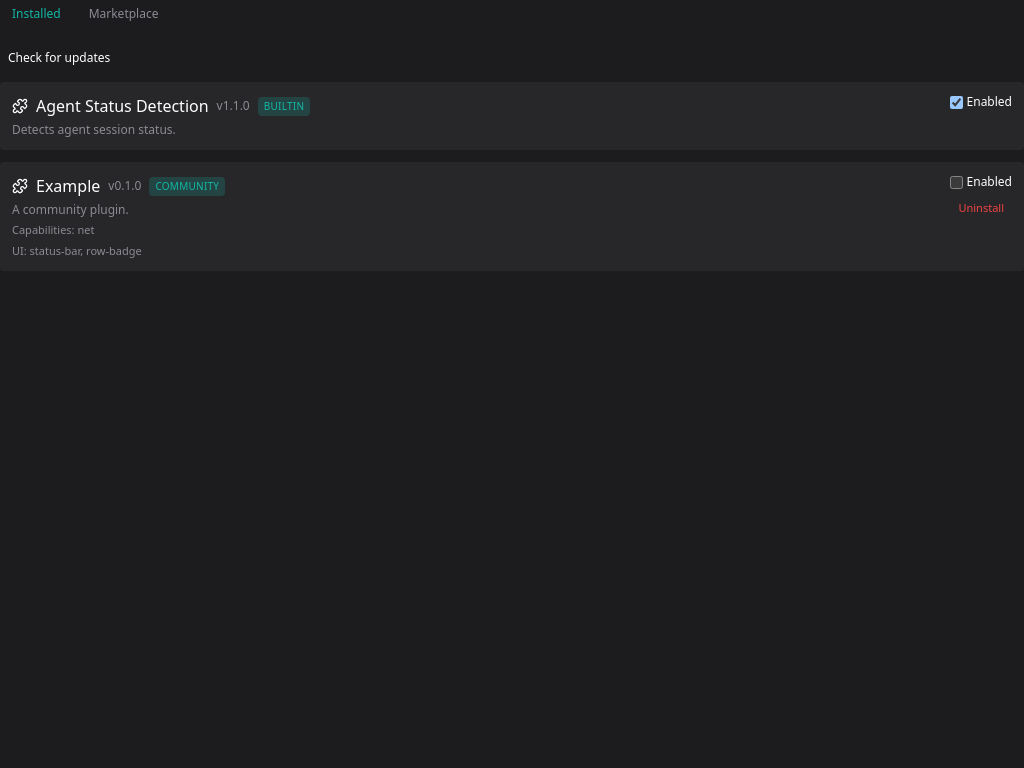
Scenario: PluginsSettings › Update on a consent-required version opens the consent modal with the new access
Click the button with test id "plugins-check-updates" at (59, 58), box [0, 46, 118, 70]
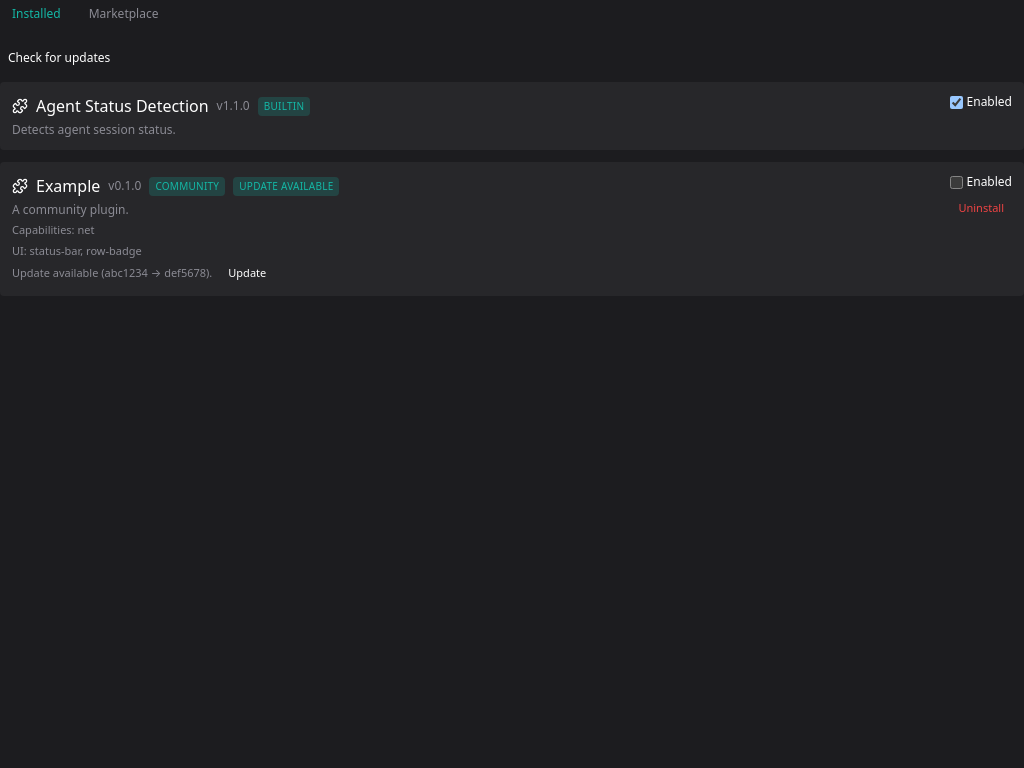
Click the button with test id "plugin-update-example.plugin" at (247, 273), box [220, 263, 274, 284]
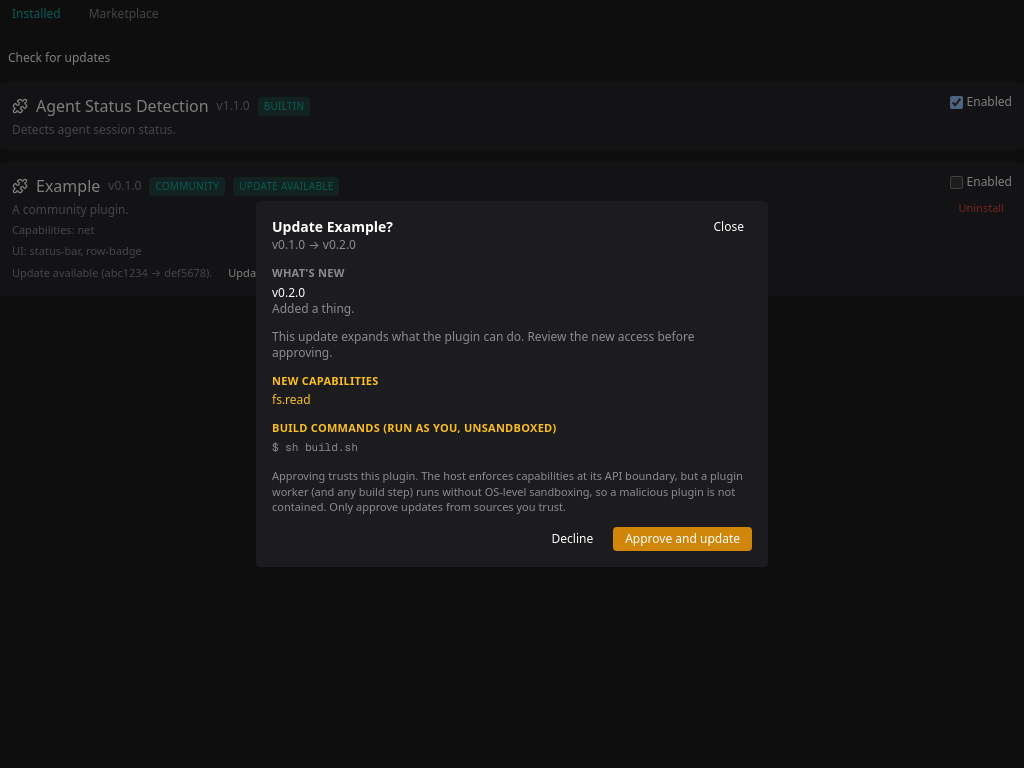
Now the dialog with test id "plugin-update-consent-modal" is shown
Now the element with test id "plugin-update-added-caps" shows "fs.read", box [272, 391, 311, 408]
Now the element with test id "plugin-update-build-steps" shows "sh build.sh", box [285, 440, 358, 454]
